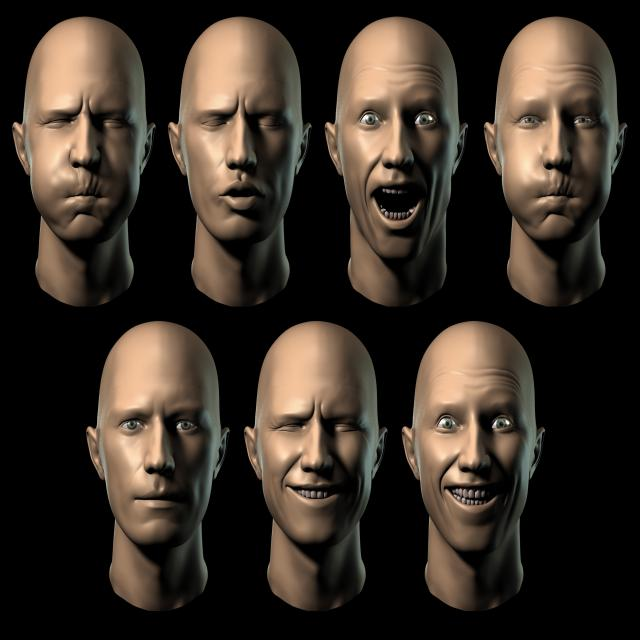no_helmet: (2, 0, 173, 132), (465, 10, 639, 136), (394, 312, 568, 438), (238, 308, 400, 436), (318, 13, 481, 138), (158, 5, 320, 130), (82, 306, 236, 432)
